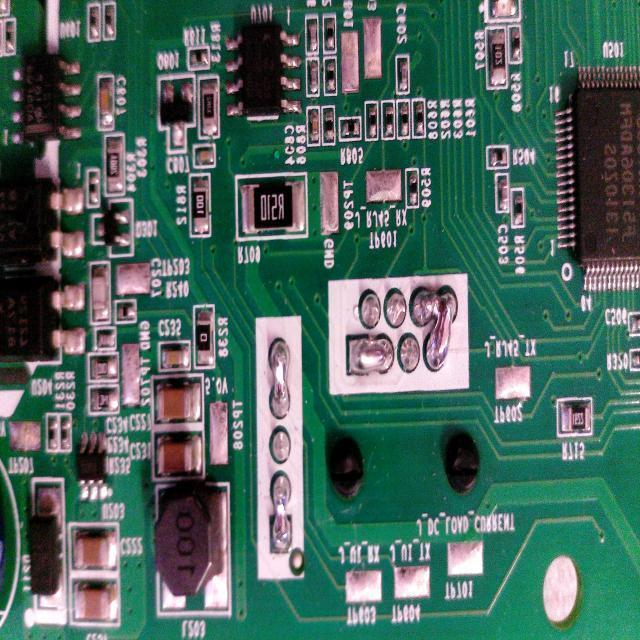Soldering bridge: (414, 286, 459, 378), (345, 332, 393, 379), (270, 469, 295, 554), (270, 336, 292, 423)
